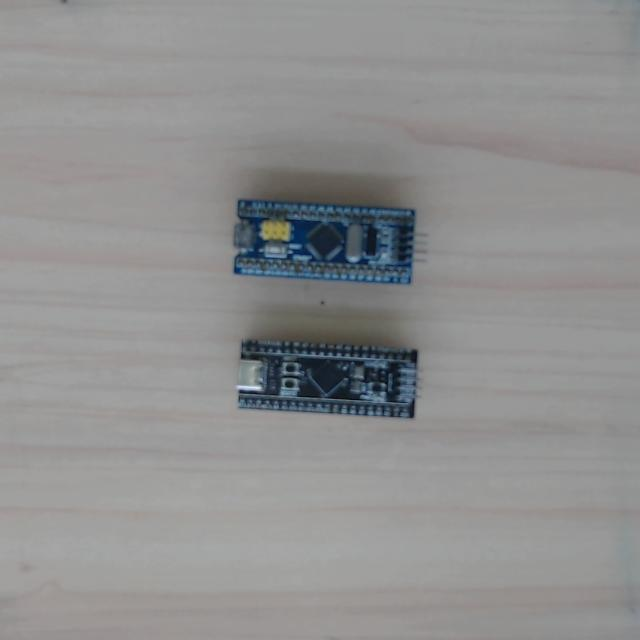STM32-Blackpill: (236, 338, 417, 418)
STM32-Bluepill: (232, 200, 416, 285)
